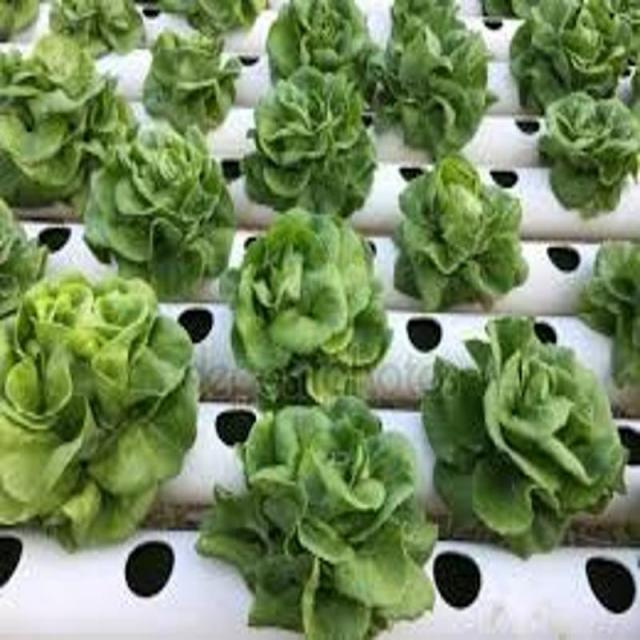Lettuce: (198, 395, 442, 640), (0, 272, 200, 545), (435, 310, 630, 557), (235, 210, 390, 385), (85, 121, 240, 292), (0, 28, 121, 211), (392, 158, 528, 318), (238, 62, 377, 216), (385, 0, 501, 158), (506, 0, 636, 115), (536, 88, 640, 223), (140, 22, 253, 136), (268, 0, 385, 106), (585, 232, 640, 382), (0, 188, 58, 321), (46, 0, 149, 56), (163, 0, 263, 41)
